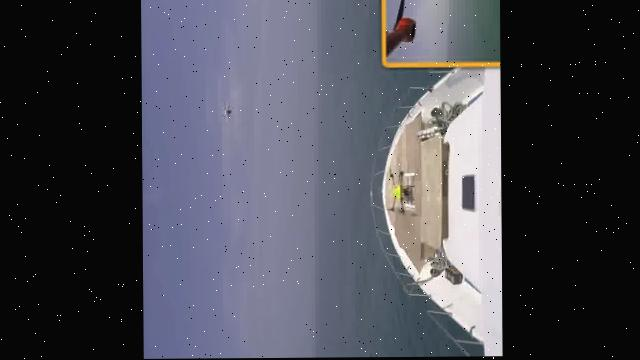drone: (379, 158, 421, 226), (212, 96, 231, 128)
